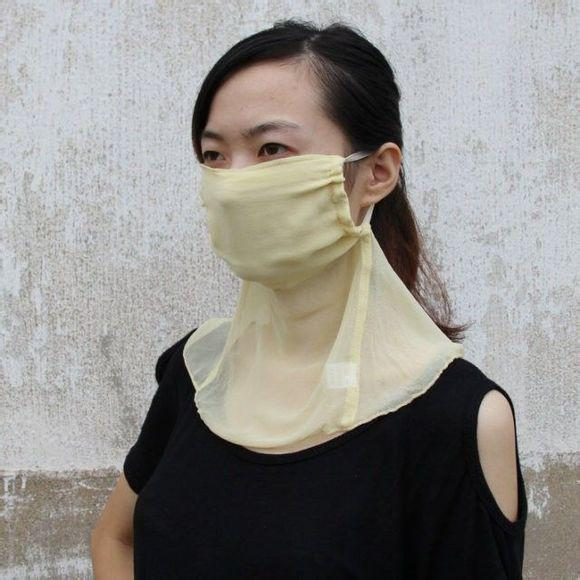OK: (196, 122, 342, 268)
